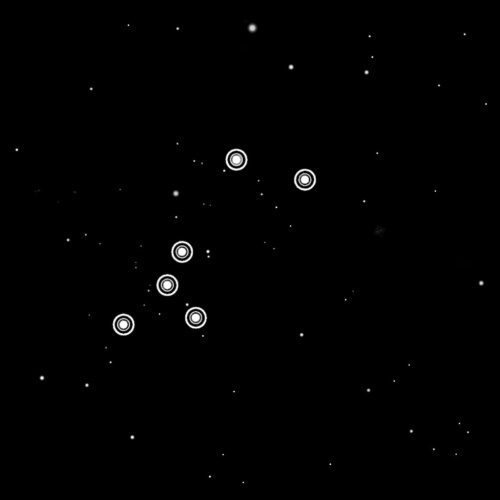canis_major: (99, 140, 325, 348)
